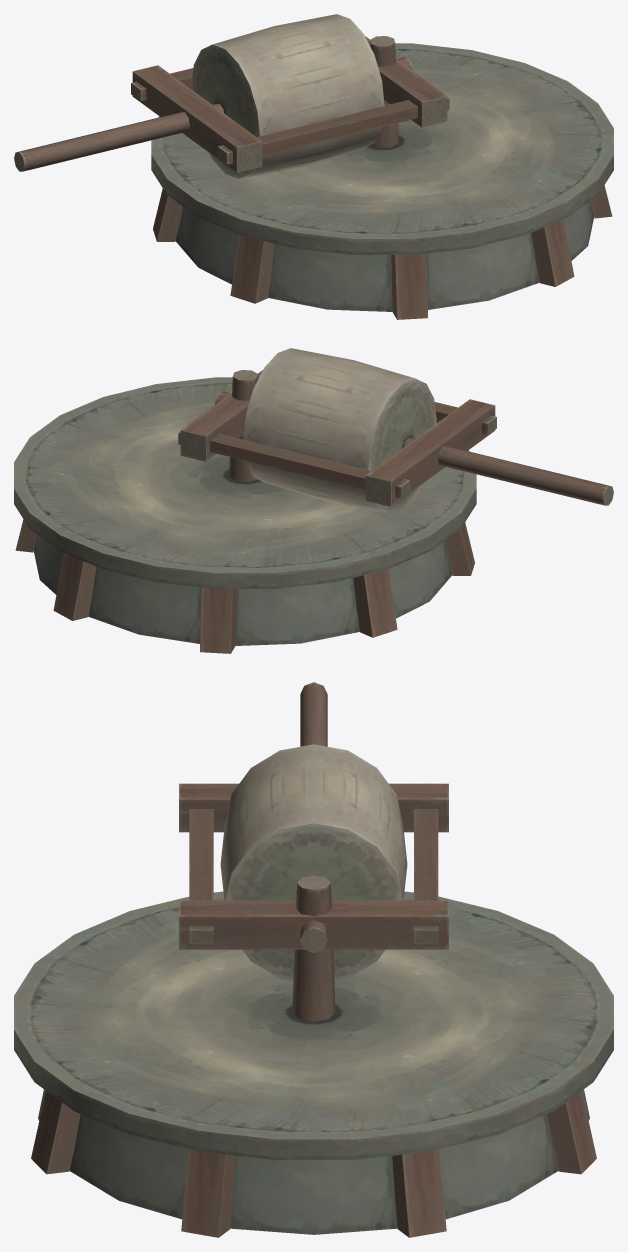
The model's file is Homeworld_Exterior_Ly_Table_Table_08_Lod0.fbx.
3 renders of one model, top to bottom at view 1: azimuth 30°, elevation 25°; view 2: azimuth 150°, elevation 25°; view 3: azimuth 270°, elevation 25°, orthographic. The views are drawn at different scales.
Visible parts, largest first — view 1: Homeworld_Exterior_Ly_Table_Table_08_Lod0; view 2: Homeworld_Exterior_Ly_Table_Table_08_Lod0; view 3: Homeworld_Exterior_Ly_Table_Table_08_Lod0.
Boxes of the visible parts, box(x1,y1,x2,y2) form: Homeworld_Exterior_Ly_Table_Table_08_Lod0: box(14, 14, 613, 319); Homeworld_Exterior_Ly_Table_Table_08_Lod0: box(14, 348, 613, 653); Homeworld_Exterior_Ly_Table_Table_08_Lod0: box(14, 682, 613, 1237).
Bounding box in the file's own units: 5.15 × 1.87 × 3.66.
Materials: 1 (1 with a texture image).
